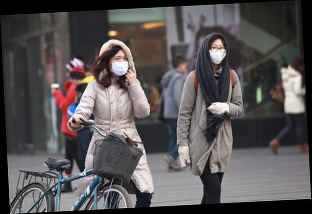with_mask: (110, 54, 130, 77), (209, 43, 228, 65)
